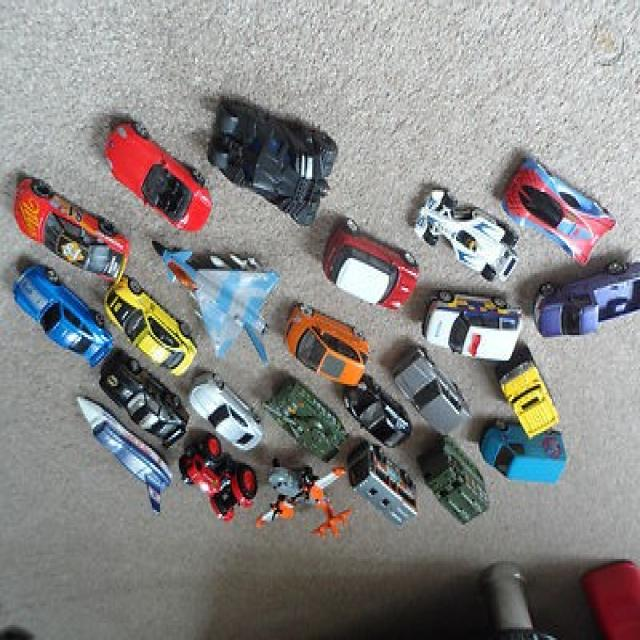Car: (106, 124, 211, 233), (323, 224, 419, 309), (424, 292, 522, 361), (290, 305, 368, 386), (419, 437, 486, 525), (498, 348, 558, 437), (480, 422, 565, 482)
